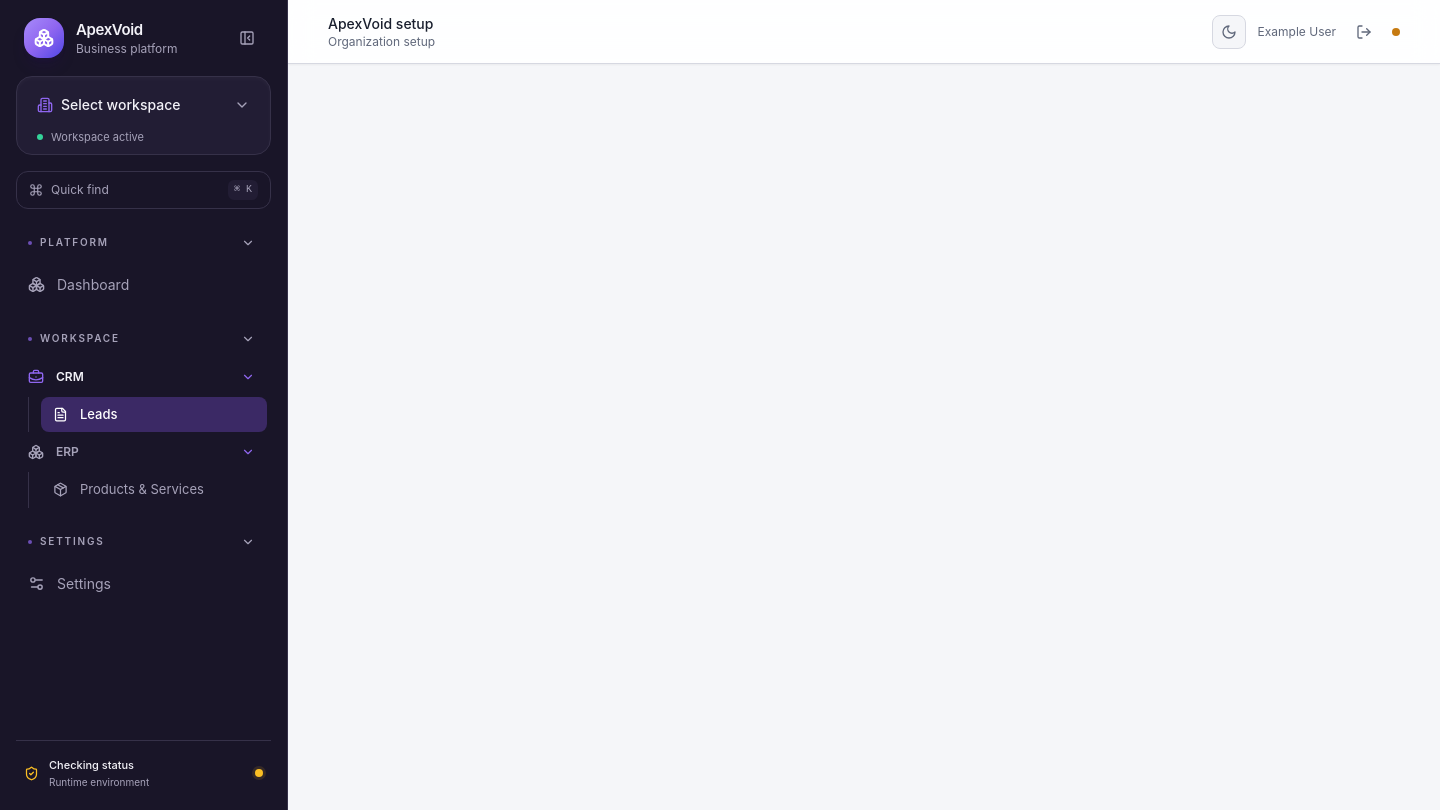
Test: collapsible sidebar navigation › independently toggles CRM and ERP submenus
Click the button with aria-label "CRM menu": (142, 376) [16,360,267,392]
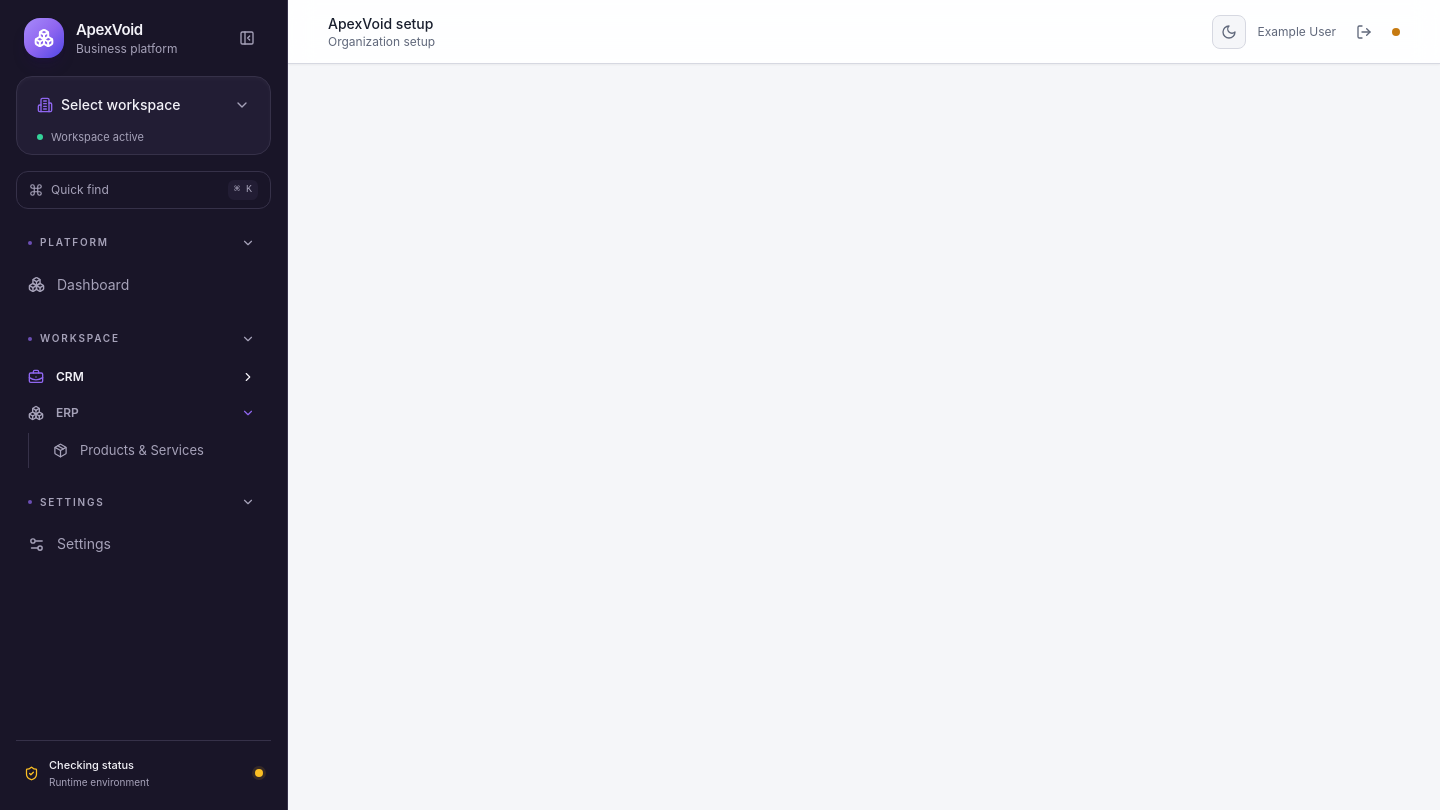
Expected: the link "Products & Services" is shown, [53,442,204,458]
Expected: the button with aria-label "CRM menu" is collapsed
Expected: the link "Leads" is gone
Click the button "CRM": (142, 376) [16,360,267,392]
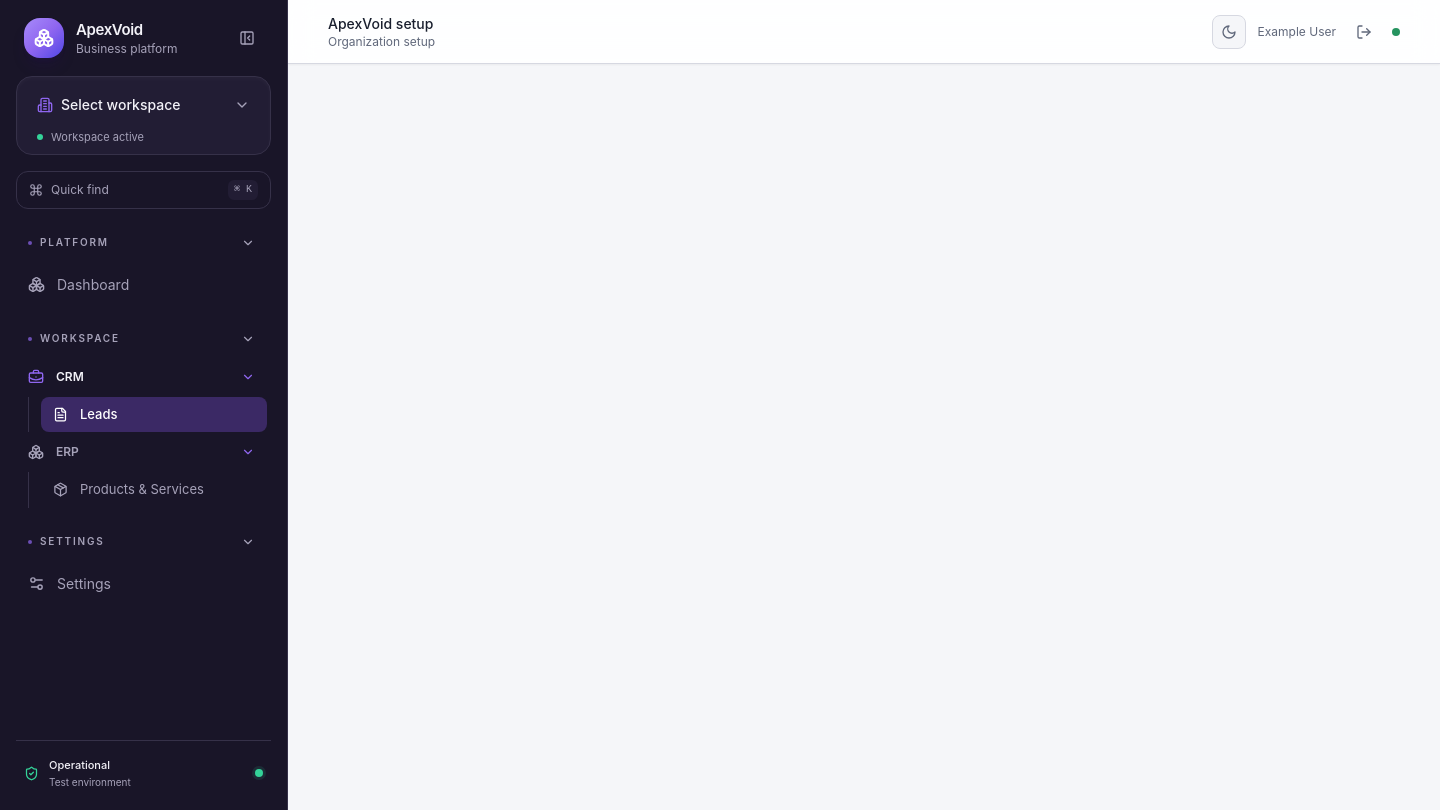
Expected: the link "Leads" is shown, [41,396,267,432]
